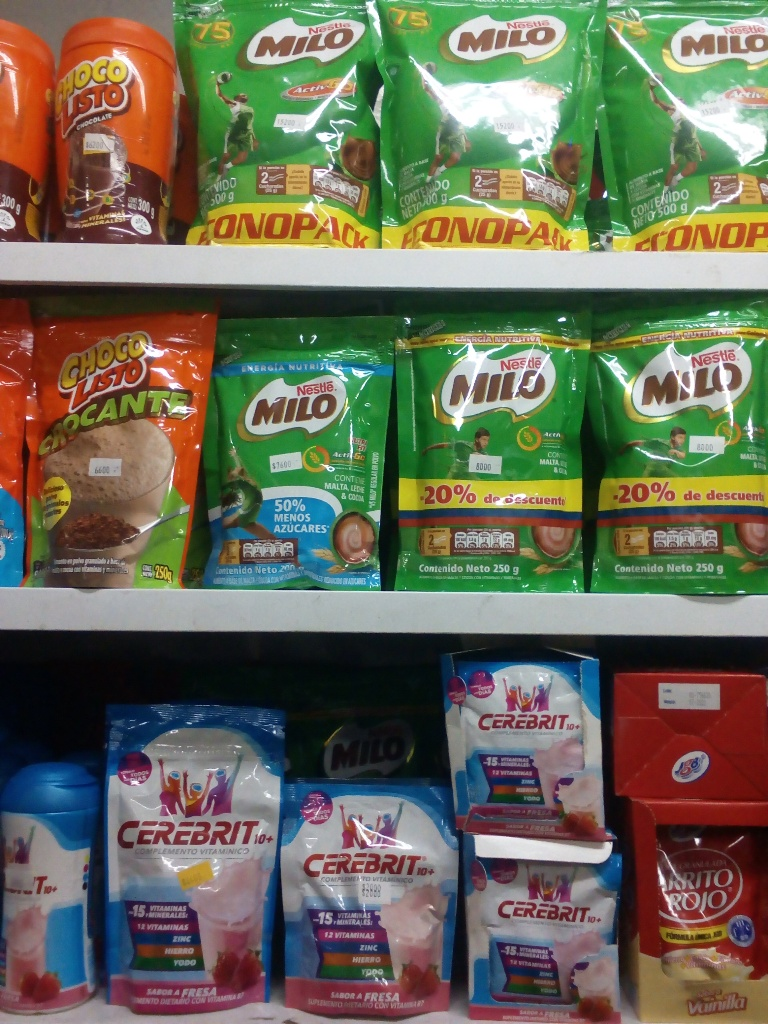COL0170102DYP25000: (24, 290, 212, 590)
COL0170103TRR30000: (55, 20, 183, 245)
COL0170203DYP25000: (586, 291, 768, 598)
COL0170203DYP50000: (597, 1, 766, 253)
COL0170205DYP20000: (206, 314, 396, 588)
